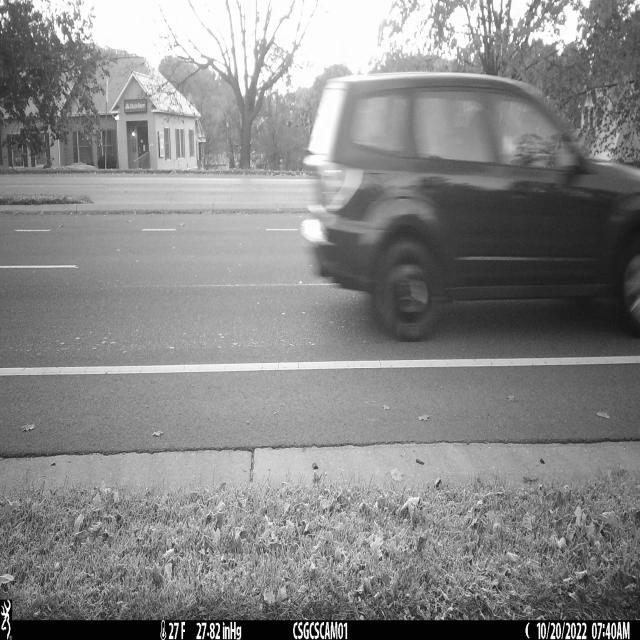SUV: (299, 72, 640, 343)
